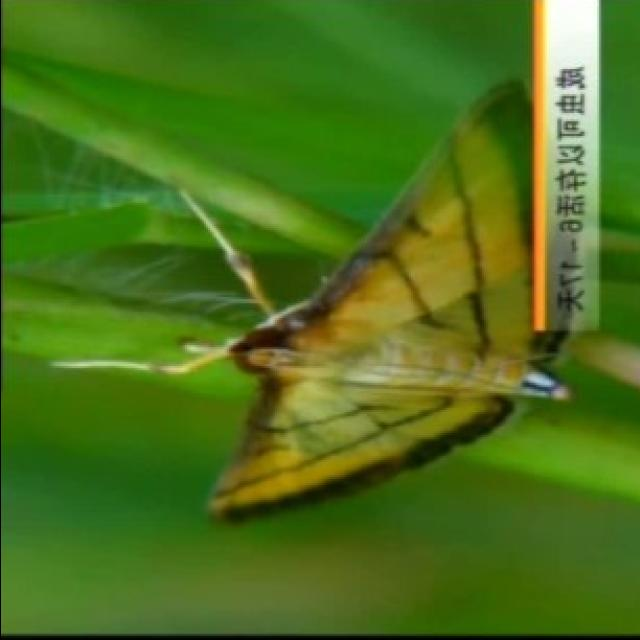rice leaf roller: (52, 82, 565, 519)
